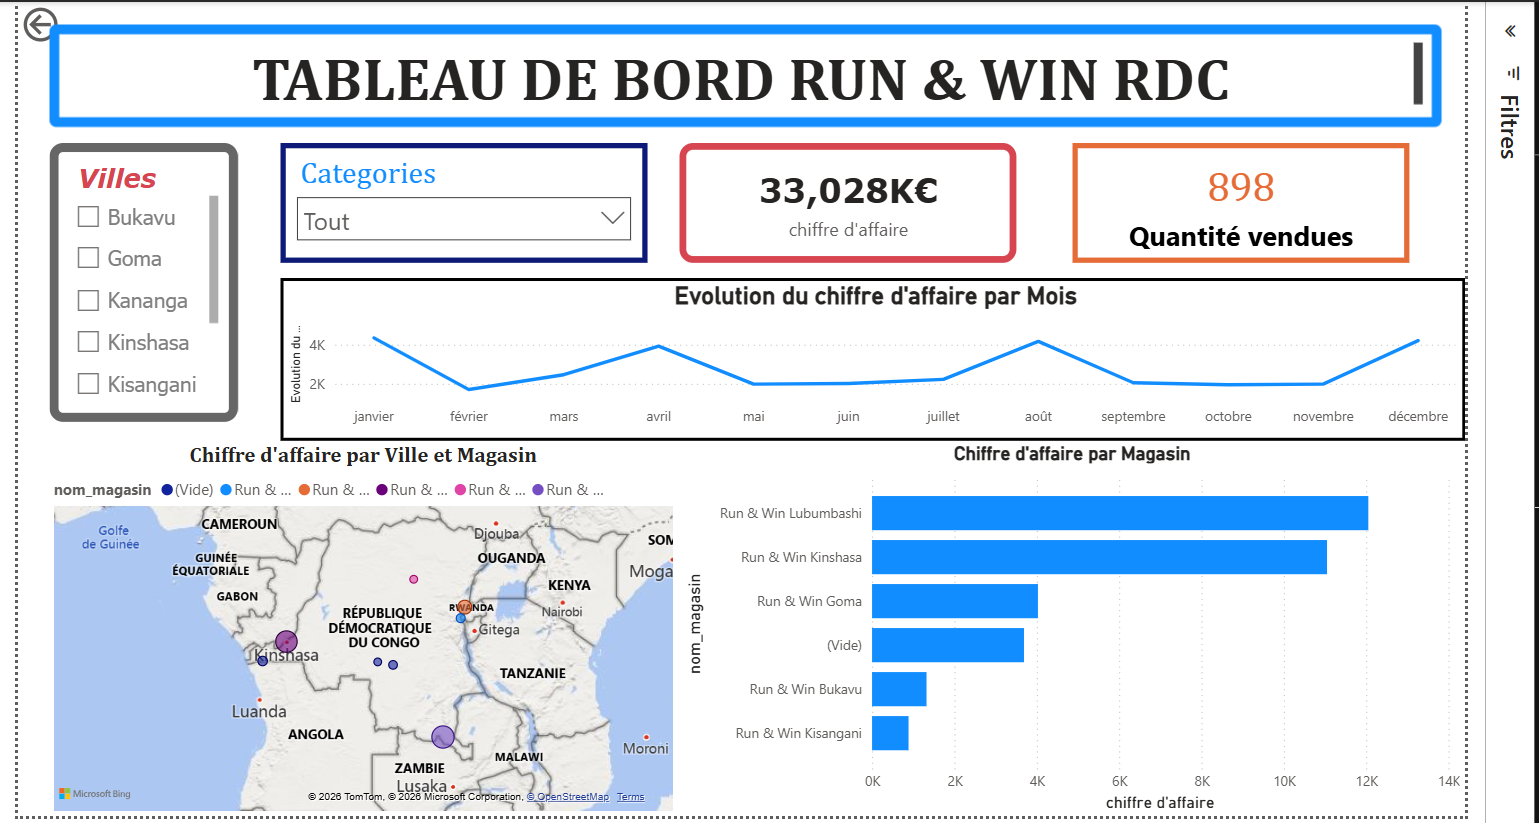

What the dashboard file says about the page in this screenshot:
{"tool":"powerbi","page":{"name":"Page 1","canvas":[1280,720],"ordinal":0},"visuals":[{"type":"actionButton","box":[0,0,100,40],"z":0},{"type":"card","fields":{"Values":["public categories.chiffre d'affaire"]},"box":[584.5,124.2,298.3,106],"z":1000},{"type":"card","fields":{"Values":["public categories.article quantité"]},"box":[932.8,124.2,298.3,106],"z":2000},{"type":"textbox","box":[27.3,19.7,1231,90.9],"z":3000},{"type":"lineChart","fields":{"Category":["public ventes.date_vente.Variation.Hiérarchie de dates.Mois"],"Y":["public categories.chiffre d'affaire"]},"box":[231.7,243.8,1047.8,143.8],"z":4000},{"type":"map","title":"Chiffre d''affaire par Ville et Magasin","fields":{"Series":["public magasins.nom_magasin"],"Size":["public categories.chiffre d'affaire"],"Category":["public villes.nom_ville"]},"box":[26.7,388.4,557.8,331.3],"z":5000},{"type":"barChart","title":"Chiffre d''affaire par Magasin","fields":{"Category":["public magasins.nom_magasin"],"Y":["public categories.chiffre d'affaire"]},"box":[584.5,388.4,694.9,331.3],"z":6000},{"type":"slicer","fields":{"Values":["public villes.nom_ville"]},"box":[27.3,124.2,166.6,246.8],"z":7000},{"type":"slicer","fields":{"Values":["public categories.nom_categorie"]},"box":[231.9,124.6,325,105.7],"z":8000}]}

Visuals, with their boxes in screenshot pixels (x1, y1, x2, y2):
actionButton: (x1=20, y1=0, x2=133, y2=45)
card - public categories.chiffre d'affaire: (x1=678, y1=140, x2=1013, y2=259)
card - public categories.article quantité: (x1=1070, y1=140, x2=1405, y2=259)
textbox: (x1=51, y1=22, x2=1436, y2=124)
lineChart - public ventes.date_vente.Variation.Hiérarchie de dates.Mois x public categories.chiffre d'affaire: (x1=281, y1=274, x2=1460, y2=436)
"Chiffre d''affaire par Ville et Magasin" map: (x1=50, y1=437, x2=678, y2=810)
"Chiffre d''affaire par Magasin" barChart: (x1=678, y1=437, x2=1460, y2=810)
slicer - public villes.nom_ville: (x1=51, y1=140, x2=238, y2=418)
slicer - public categories.nom_categorie: (x1=281, y1=140, x2=647, y2=259)
